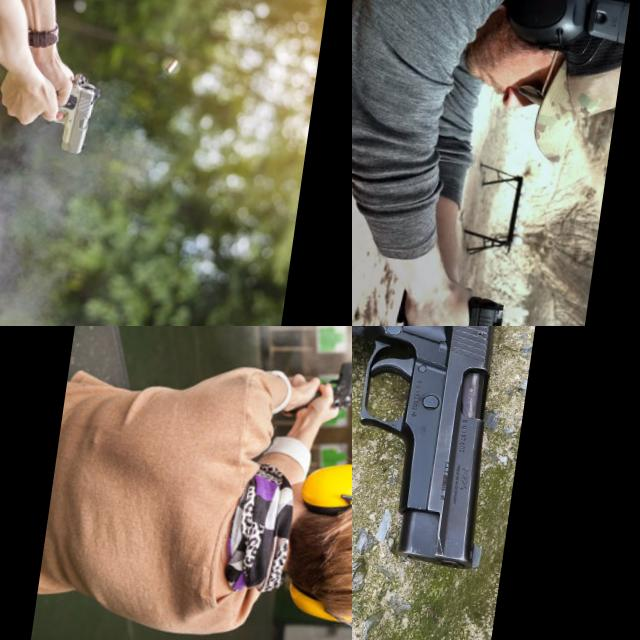handgun: (352, 326, 524, 577), (45, 68, 106, 160), (430, 291, 516, 326), (318, 355, 352, 414)
